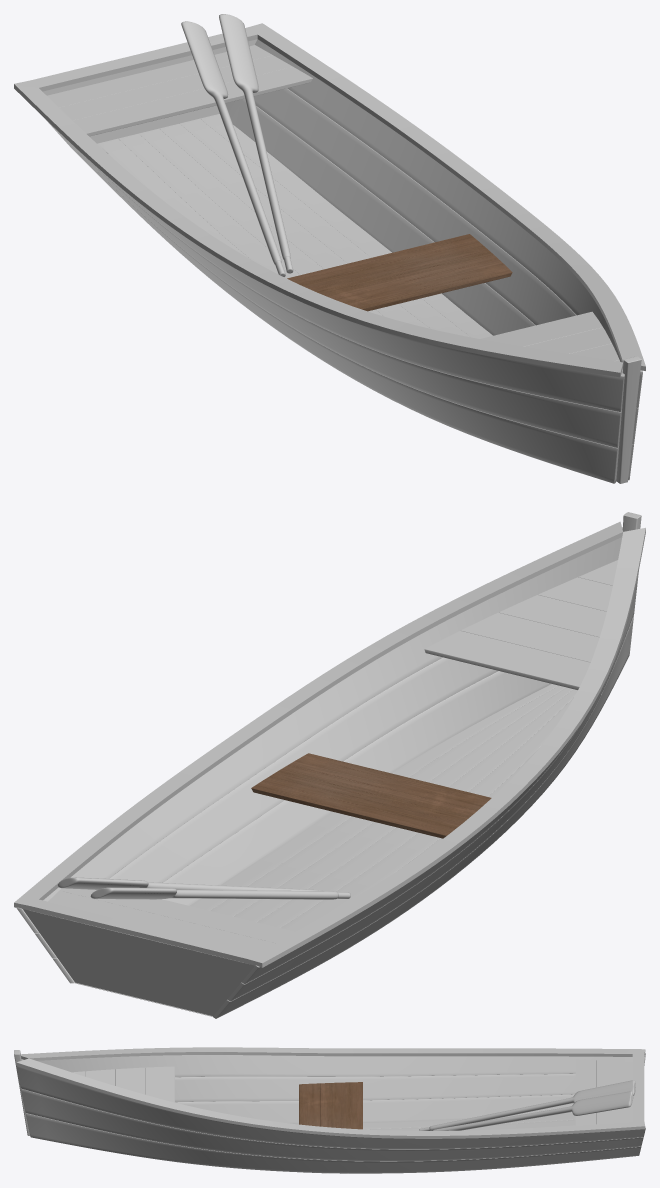
The model's file is Boat.fbx.
The picture shows the model from 3 angles, top to bottom: view 1: azimuth 30°, elevation 25°; view 2: azimuth 150°, elevation 25°; view 3: azimuth 270°, elevation 25°; orthographic projection. The views are drawn at different scales.
Parts seen in each view (by area): view 1: body 1, board, bottom, bench 2, bench 1, paddle 2, bench 3, paddle 1, body 2, the bow of the boat; view 2: body 1, board, bottom, bench 3, body 2, bench 1, bench 2, paddle 1, paddle 2; view 3: body 1, board, bench 1, bench 2, bench 3, paddle 2, bottom, paddle 1, the bow of the boat.
Boxes of the visible parts, box(x1,y1,x2,y2) form: body 1: box(45, 39, 642, 483); board: box(14, 23, 645, 377); bottom: box(97, 114, 492, 338); bench 2: box(47, 45, 312, 136); bench 1: box(287, 234, 512, 311); paddle 2: box(219, 14, 293, 273); bench 3: box(480, 311, 622, 373); paddle 1: box(181, 21, 285, 276); body 2: box(43, 39, 257, 143); the bow of the boat: box(616, 356, 641, 483); body 1: box(16, 527, 638, 1018); board: box(14, 521, 645, 967); bottom: box(75, 684, 577, 1016); bench 3: box(424, 560, 617, 689); body 2: box(23, 909, 254, 1016); bench 1: box(251, 753, 491, 838); bench 2: box(48, 888, 295, 952); paddle 1: box(90, 887, 350, 899); paddle 2: box(57, 877, 322, 890); body 1: box(16, 1053, 645, 1173); board: box(16, 1047, 645, 1138); bench 1: box(299, 1082, 362, 1129); bench 2: box(575, 1059, 632, 1125); bench 3: box(72, 1066, 174, 1102); paddle 2: box(431, 1091, 633, 1130); bottom: box(303, 1113, 575, 1173); paddle 1: box(419, 1080, 635, 1130); the bow of the boat: box(14, 1050, 29, 1135).
Bounding box in the file's own units: 150 × 77.15 × 457.
